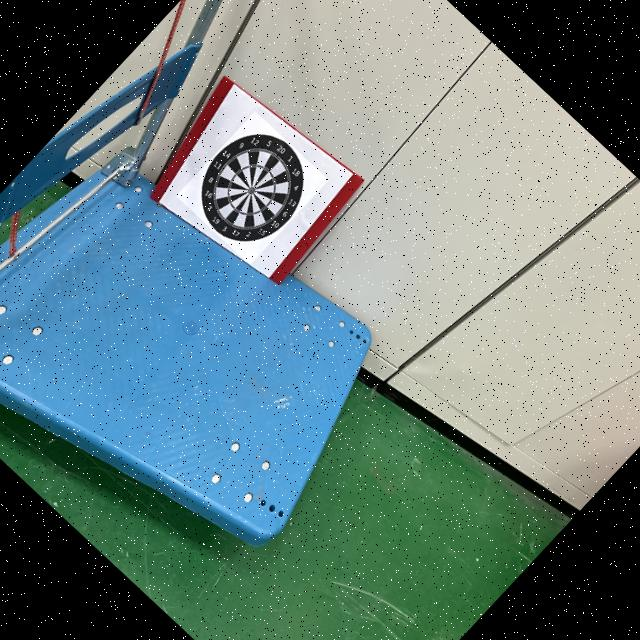archery-targets: (175, 112, 328, 266)
